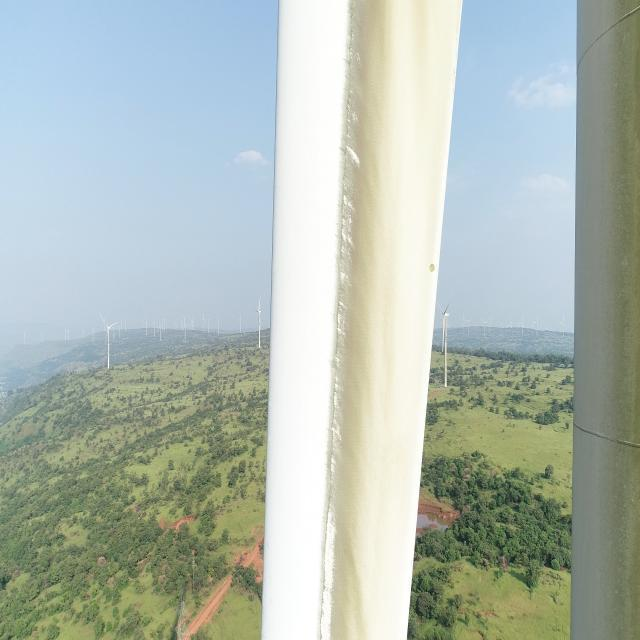Dirt: (313, 0, 466, 640)
